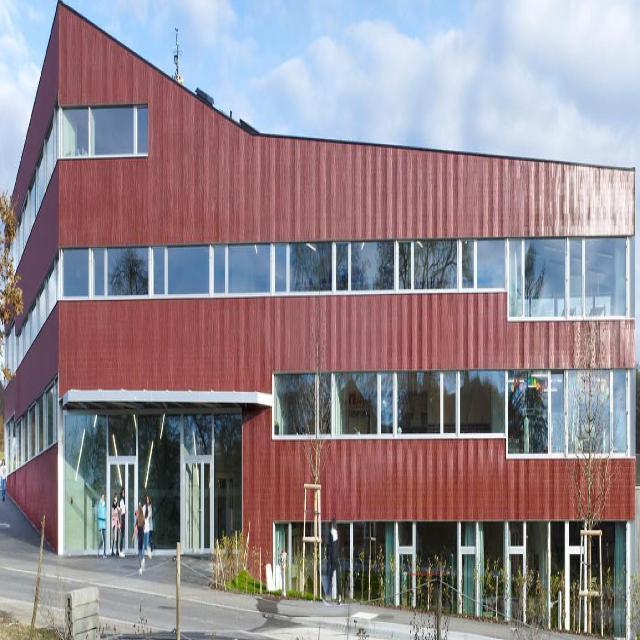door: (106, 456, 137, 558), (182, 457, 214, 554)
window: (274, 506, 634, 640), (59, 234, 626, 319), (270, 365, 627, 461), (8, 103, 146, 293), (62, 419, 239, 556), (1, 248, 60, 390), (3, 383, 57, 481)
